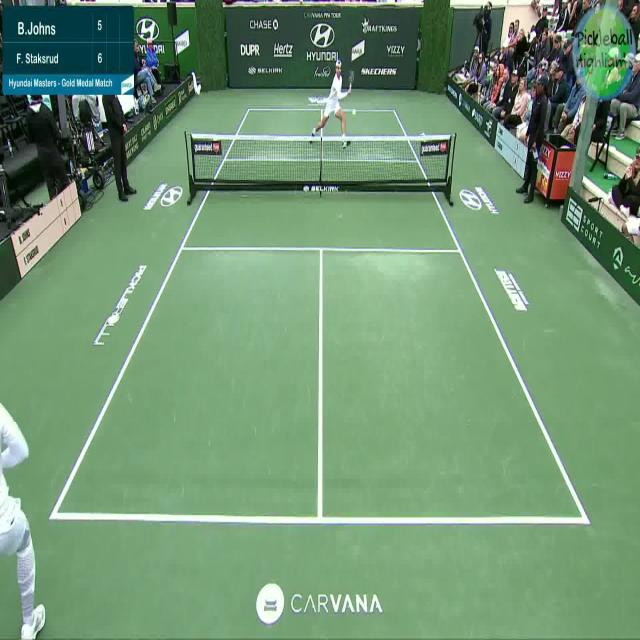ball: (352, 107, 356, 116)
